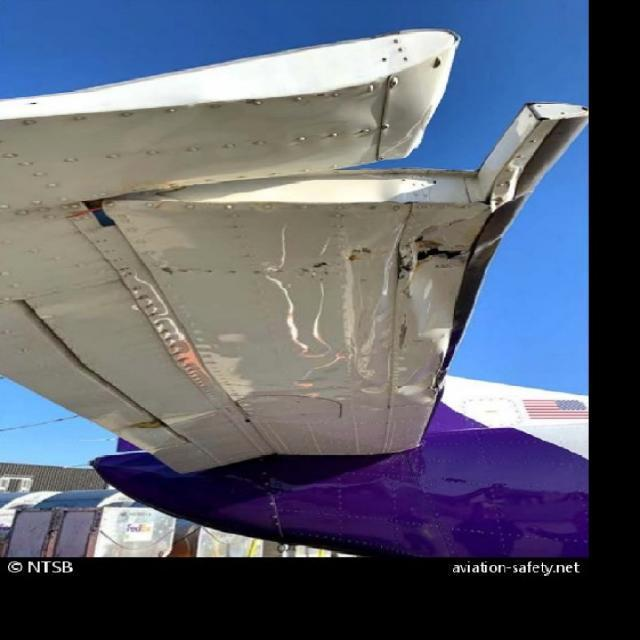dent: (391, 370, 426, 405)
